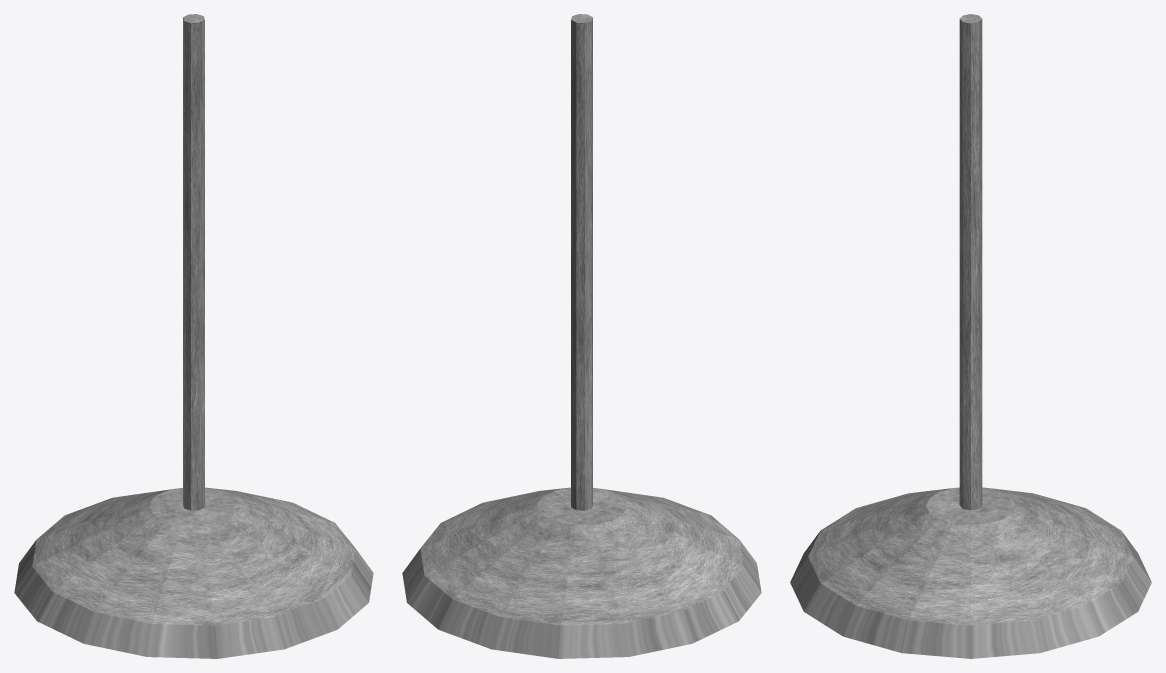
The model's file is Lamp1.fbx.
The picture shows the model from 3 angles, left to right: view 1: azimuth 30°, elevation 25°; view 2: azimuth 150°, elevation 25°; view 3: azimuth 270°, elevation 25°; orthographic projection.
Parts seen in each view (by area): view 1: Lamp1; view 2: Lamp1; view 3: Lamp1.
Part boxes in pixels (x1=…): Lamp1: x1=14, y1=14, x2=373, y2=658; Lamp1: x1=402, y1=14, x2=761, y2=658; Lamp1: x1=790, y1=14, x2=1151, y2=658.
Size of the model in its own units: 128 by 220 by 128.
Materials: 1 (1 with a texture image).
